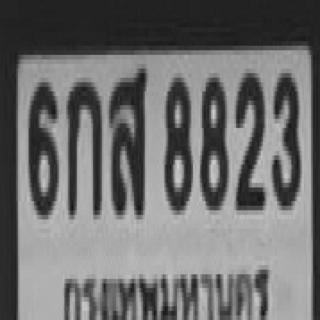A01: (66, 78, 100, 215)
A40: (107, 66, 145, 213)
N02: (234, 69, 263, 206)
N03: (270, 69, 298, 206)
N06: (27, 78, 57, 215)
N08: (198, 73, 225, 206), (163, 73, 189, 206)
P04: (59, 260, 272, 320)
